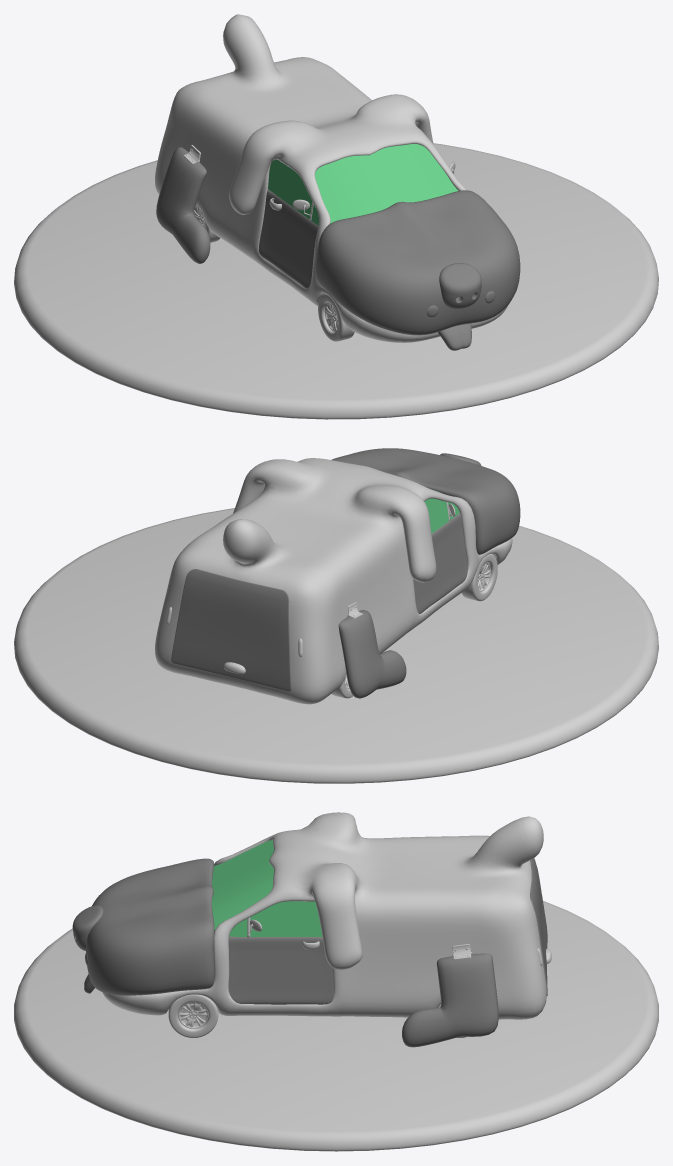
3 renders of one model, top to bottom at view 1: azimuth 30°, elevation 25°; view 2: azimuth 150°, elevation 25°; view 3: azimuth 270°, elevation 25°, orthographic.
Visible parts, largest first — view 1: extra, dogCarBaseP1, dogCarBaseP2, glass; view 2: extra, dogCarBaseP1, dogCarBaseP2, glass; view 3: extra, dogCarBaseP1, dogCarBaseP2, glass.
Part boxes in pixels (x1,y1,x2,y2): extra: (14, 143, 658, 419); dogCarBaseP1: (155, 14, 508, 342); dogCarBaseP2: (156, 147, 520, 350); glass: (268, 144, 458, 225); extra: (14, 502, 658, 783); dogCarBaseP1: (155, 458, 512, 704); dogCarBaseP2: (171, 448, 520, 698); glass: (424, 490, 459, 533); extra: (14, 895, 658, 1151); dogCarBaseP1: (102, 812, 546, 1019); dogCarBaseP2: (72, 858, 547, 1047); glass: (212, 840, 322, 936).
Bounding box in the file's own units: 2405 × 817 × 2402.
